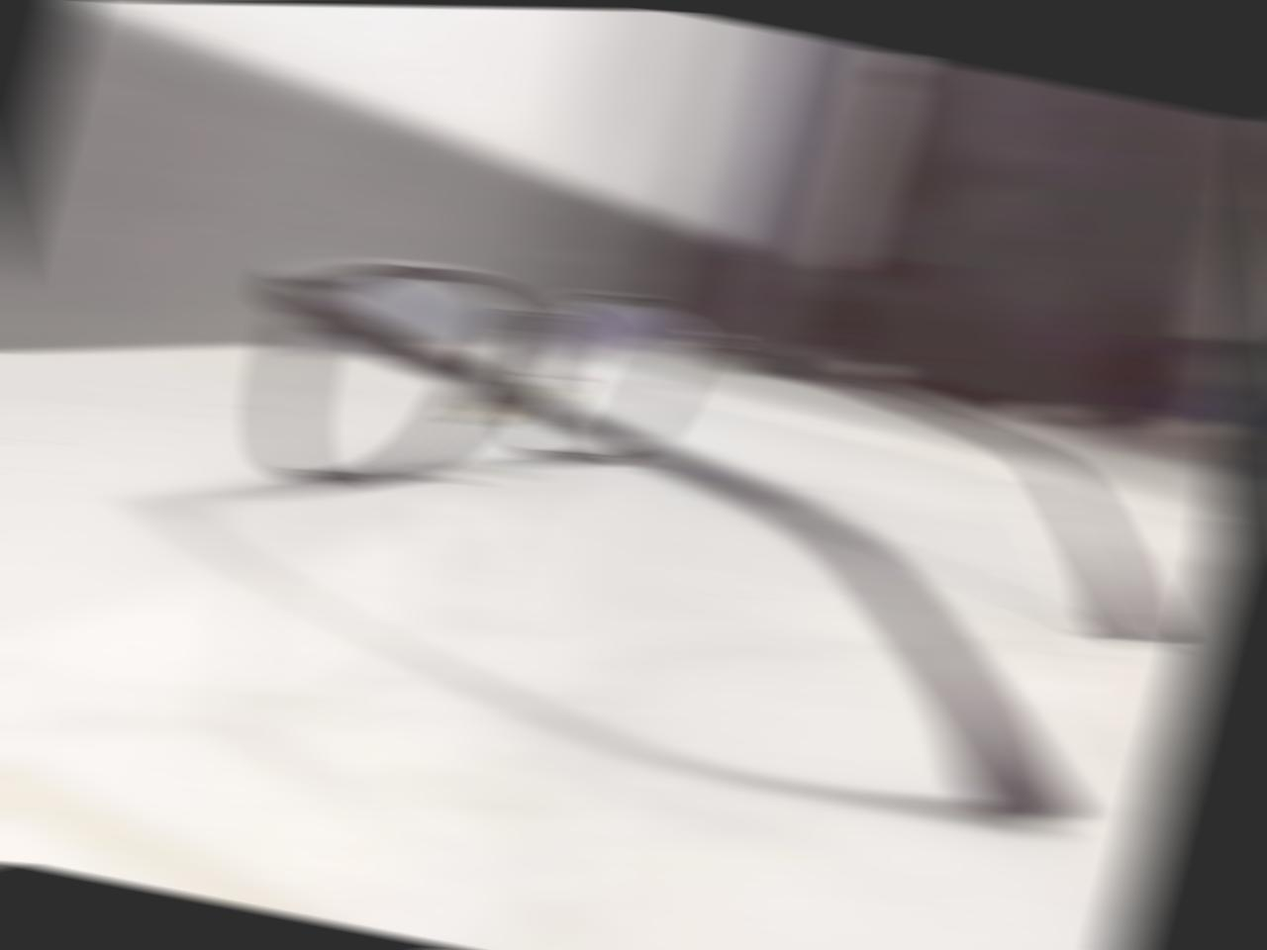glasses: (145, 215, 1258, 850)
